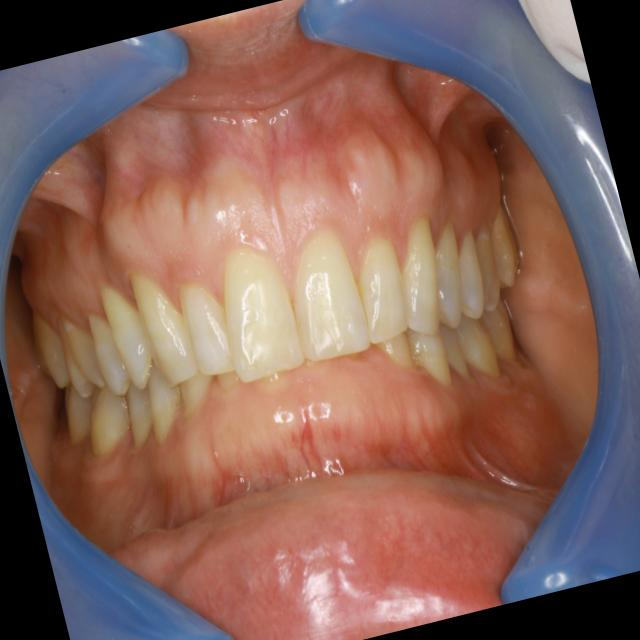tooth: (202, 229, 312, 393), (269, 216, 378, 372), (119, 249, 205, 396), (377, 203, 459, 343), (91, 264, 170, 399), (341, 225, 420, 351), (408, 209, 481, 339), (171, 267, 245, 387), (77, 293, 139, 406), (48, 299, 113, 405), (132, 345, 197, 451), (434, 222, 498, 326), (73, 371, 143, 466), (20, 291, 78, 394), (398, 307, 456, 396), (449, 305, 506, 391), (479, 199, 531, 293), (462, 216, 511, 315), (52, 369, 106, 452), (475, 291, 526, 375), (116, 371, 162, 455), (168, 356, 222, 415), (432, 309, 473, 384), (371, 320, 417, 379)
